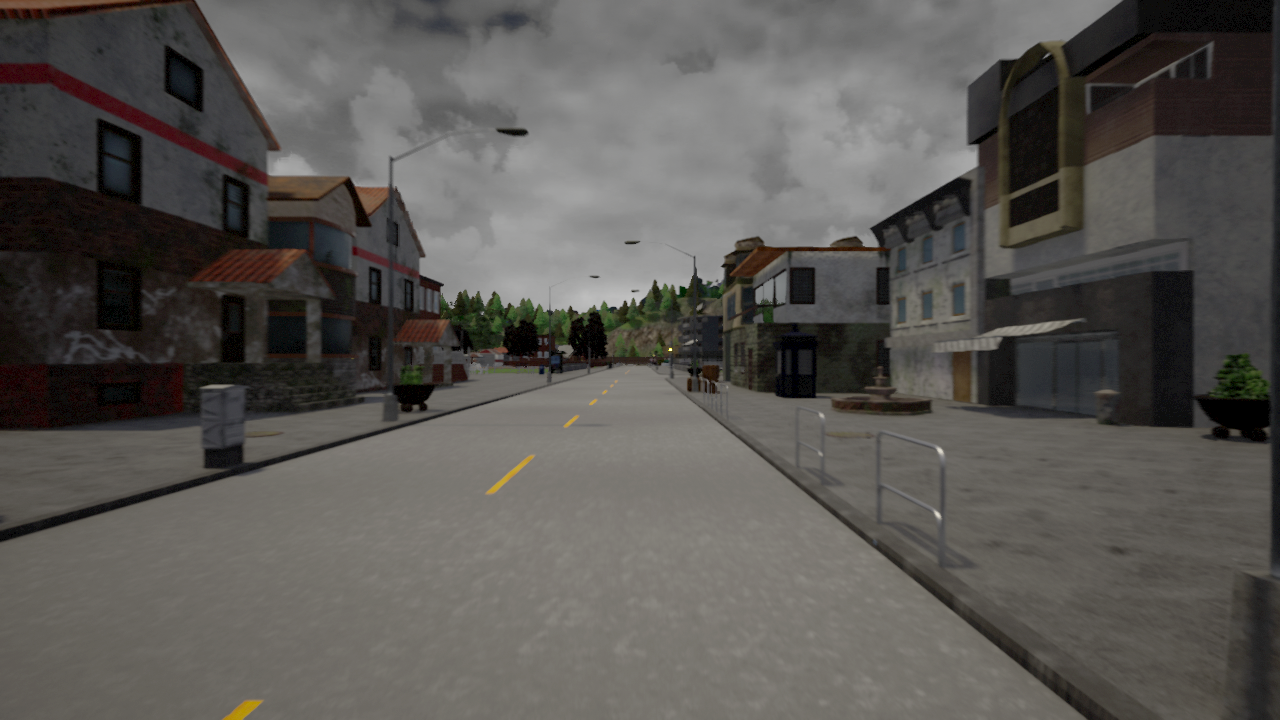yellow: (667, 344, 674, 356)
